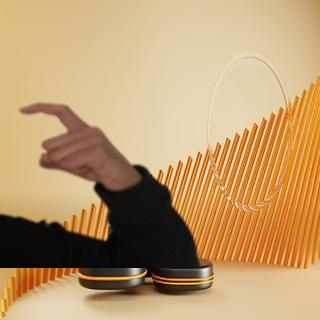WHY: (14, 95, 138, 191)
